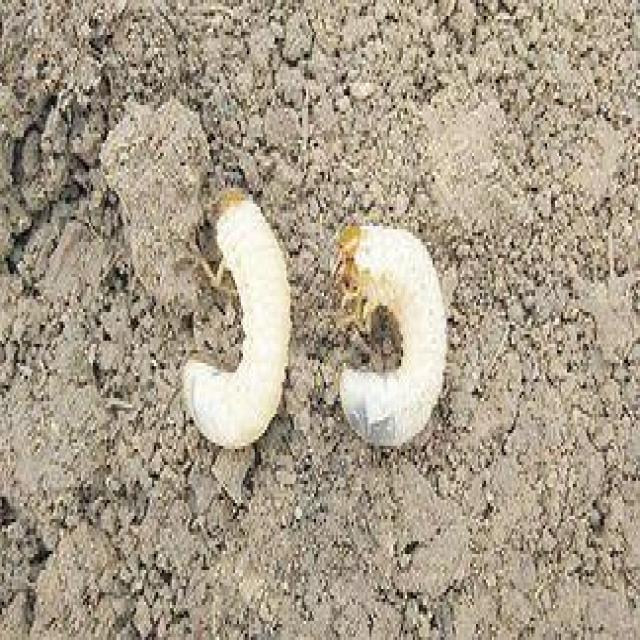Grub-Adult-: (167, 165, 309, 462), (328, 192, 464, 472)
